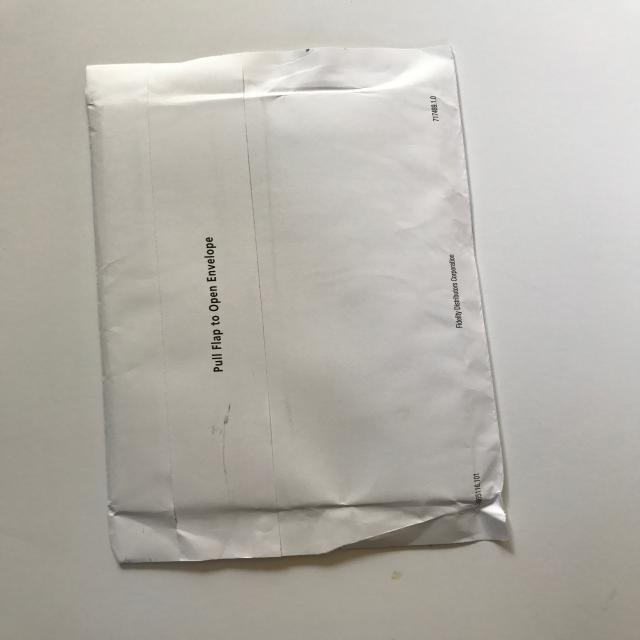paper: (85, 46, 511, 564)
